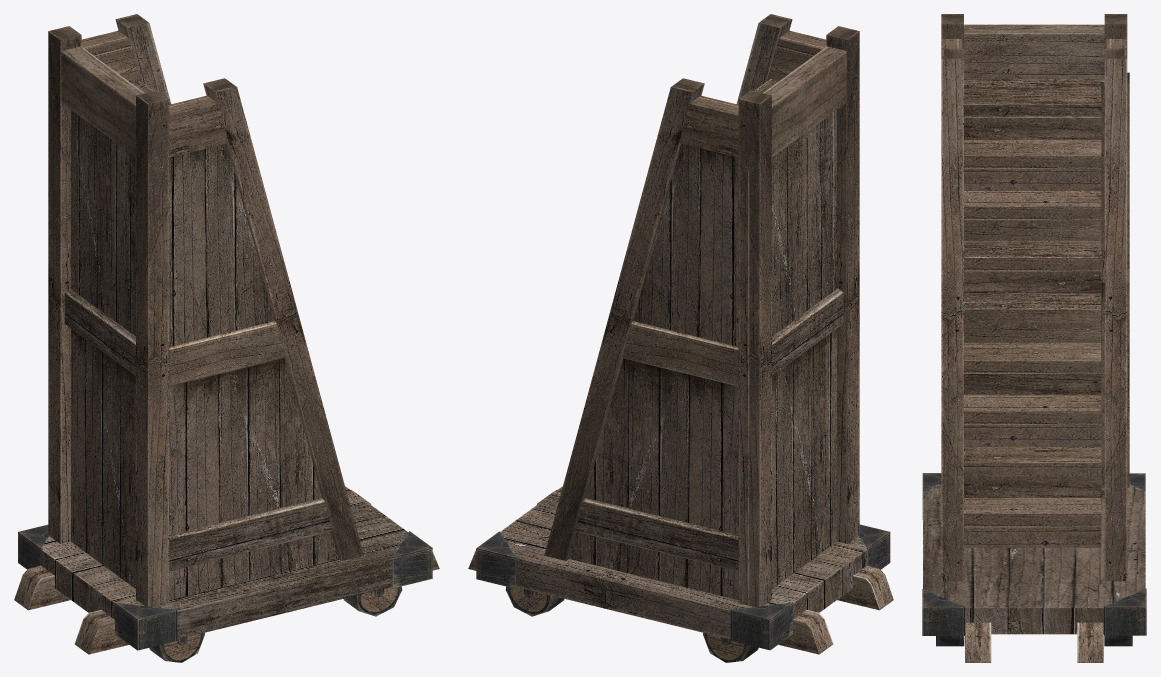
Rendered from CraneC.fbx.
3 renders of one model, left to right at view 1: azimuth 30°, elevation 25°; view 2: azimuth 150°, elevation 25°; view 3: azimuth 270°, elevation 25°, orthographic. The views are drawn at different scales.
Parts seen in each view (by area): view 1: LV_Common_Object_Crane01C_SM_NWCJOE; view 2: LV_Common_Object_Crane01C_SM_NWCJOE; view 3: LV_Common_Object_Crane01C_SM_NWCJOE.
Boxes of the visible parts, box(x1,y1,x2,y2) form: LV_Common_Object_Crane01C_SM_NWCJOE: box(14, 14, 439, 662); LV_Common_Object_Crane01C_SM_NWCJOE: box(468, 14, 893, 662); LV_Common_Object_Crane01C_SM_NWCJOE: box(922, 14, 1146, 662).
Size of the model in its own units: 42.5 by 65.37 by 25.23.
